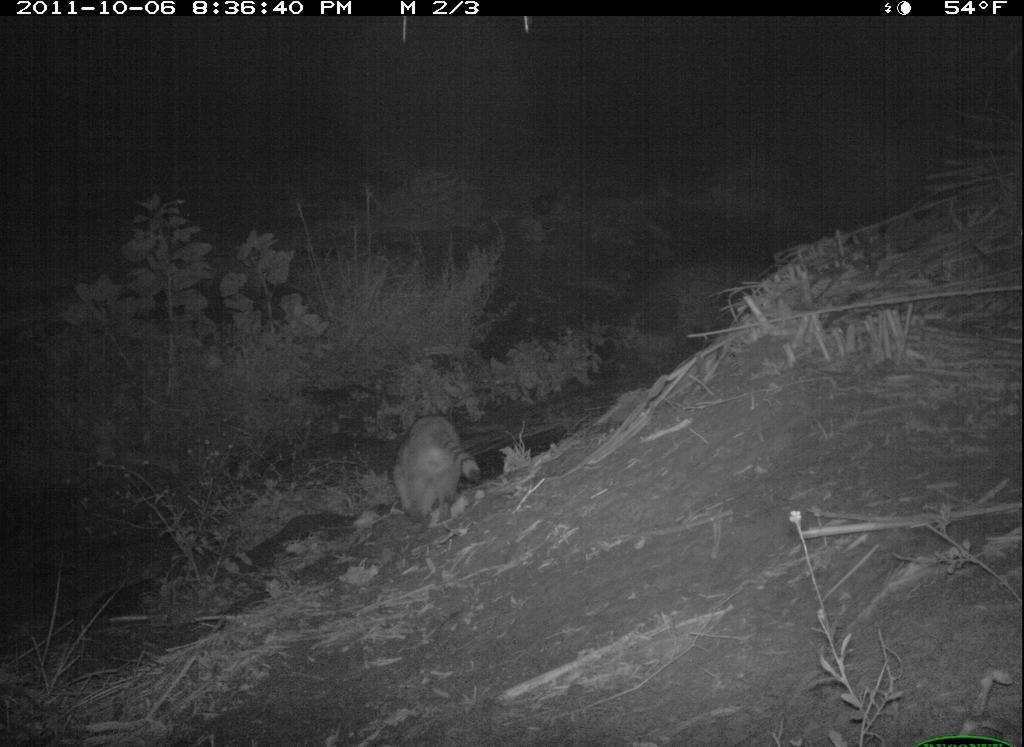raccoon: (381, 397, 487, 541)
